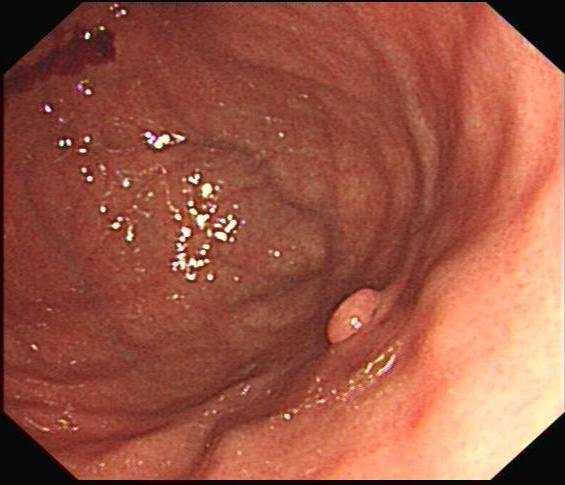Polyp: (317, 272, 393, 358)
